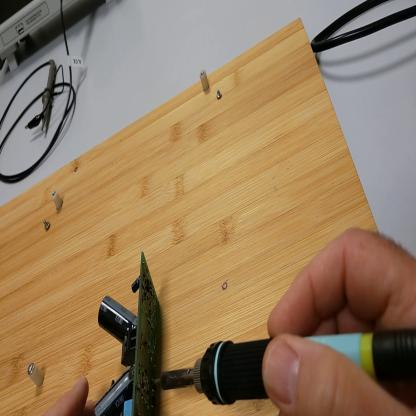hand: (262, 225, 416, 415), (48, 378, 96, 416)
high voltage board: (94, 251, 161, 415)
oscilloscope: (2, 1, 103, 75)
oscilloscope probe tip: (41, 59, 57, 132)
welder probe tip: (150, 328, 416, 407)
working area: (2, 21, 395, 415)
